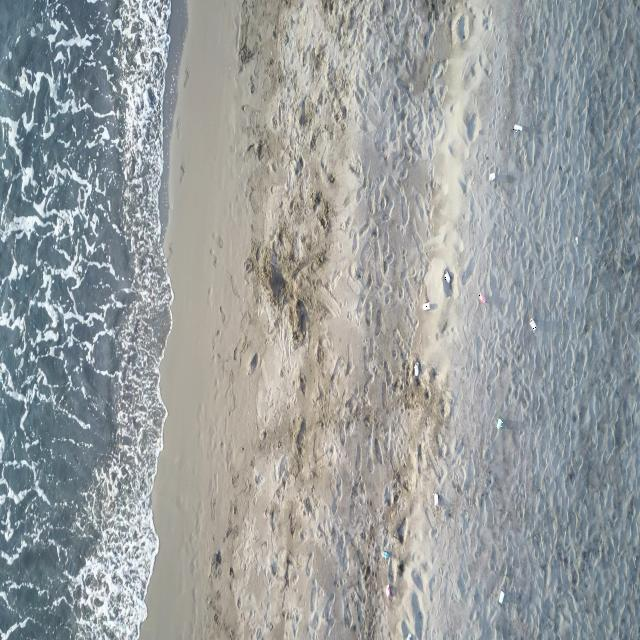tin-and-aluminum-cans: (444, 270, 451, 284), (530, 317, 536, 332), (499, 590, 505, 605), (513, 124, 524, 132), (479, 292, 486, 304), (433, 493, 439, 507), (424, 302, 432, 312), (386, 584, 391, 598), (489, 172, 496, 182), (414, 362, 419, 376), (498, 418, 503, 430), (382, 550, 388, 560), (407, 632, 412, 640)
